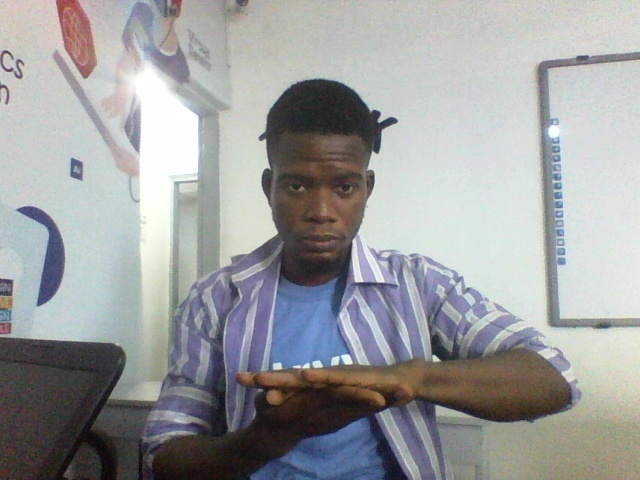nice_to_meet_you: (209, 355, 533, 471)
